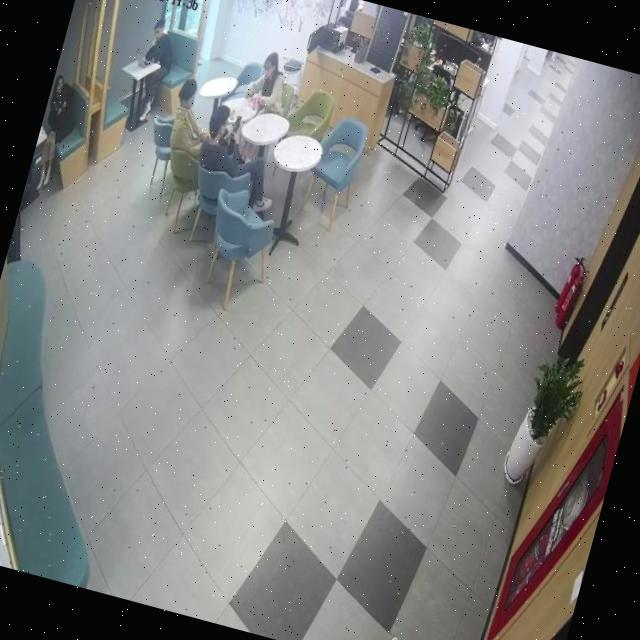person: (187, 101, 296, 222), (27, 74, 89, 198), (128, 15, 185, 129), (165, 76, 224, 162), (244, 49, 295, 116)
